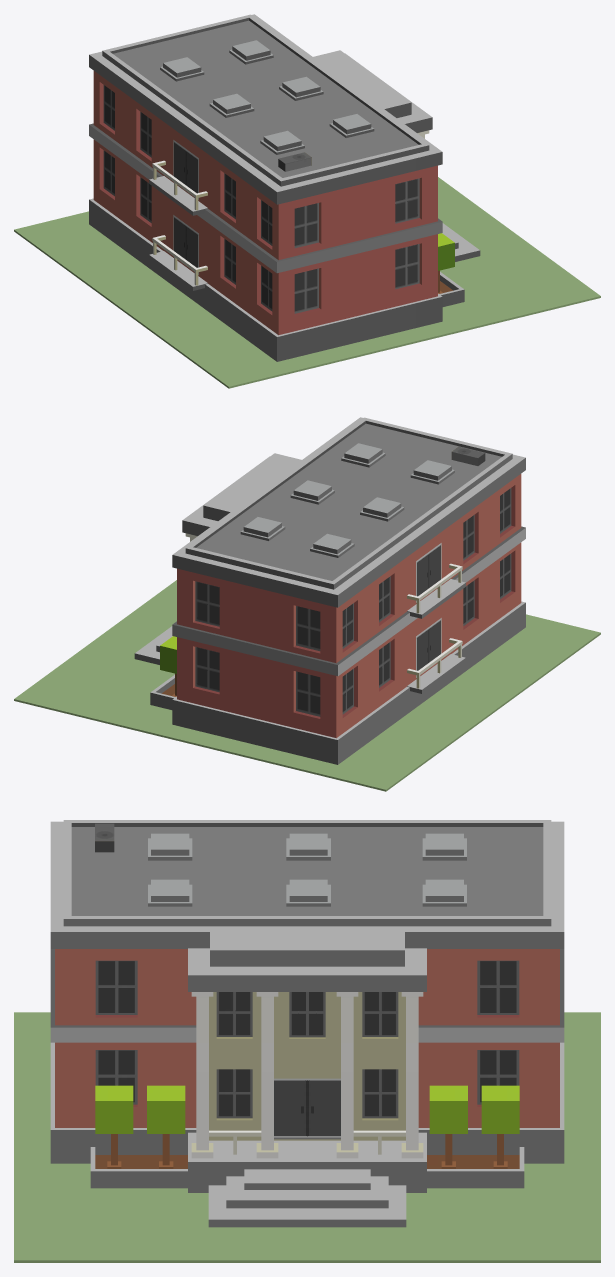
File: town-hall.glb
3 views of the same model, one above another, from view 1: azimuth 30°, elevation 25°; view 2: azimuth 150°, elevation 25°; view 3: azimuth 270°, elevation 25° (orthographic). The views are drawn at different scales.
Parts seen in each view (by area): view 1: TownHall, Ground; view 2: TownHall, Ground; view 3: TownHall, Ground.
Part boxes in pixels (x1=…): TownHall: x1=89, y1=14, x2=480, y2=361; Ground: x1=14, y1=177, x2=600, y2=388; TownHall: x1=134, y1=417, x2=525, y2=764; Ground: x1=14, y1=580, x2=600, y2=791; TownHall: x1=50, y1=820, x2=564, y2=1227; Ground: x1=14, y1=1012, x2=600, y2=1262.
Bounding box in the file's own units: 32 × 14.96 × 32.
Materials: 2 (1 with a texture image).
